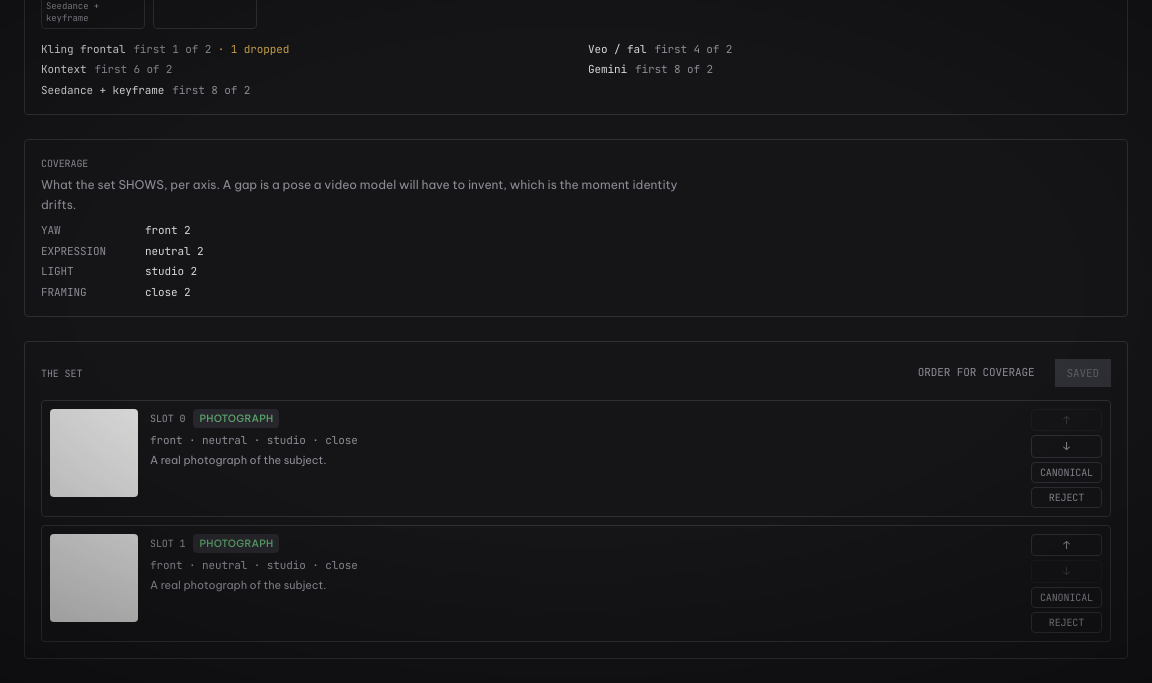
Test: ReferenceSheetPage › surfaces a refused save instead of reporting success
(page scrolled)
Click the button named "Move slot 1 earlier" at (1066, 545), box [1031, 534, 1102, 556]
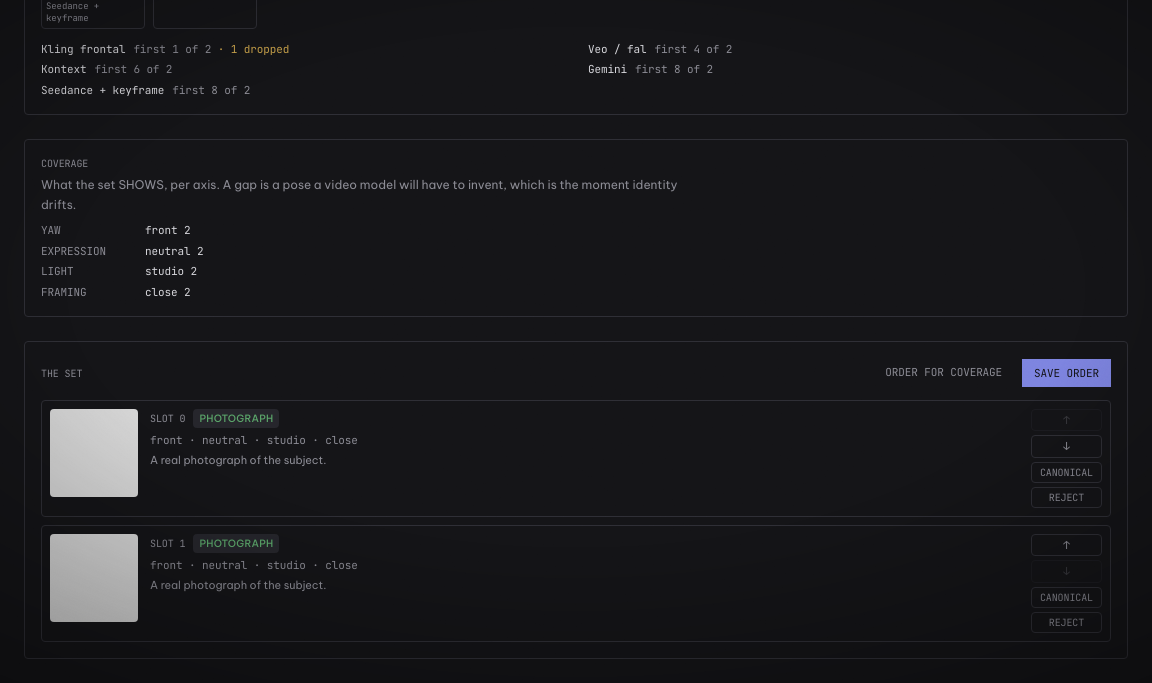
Click the button "Save order" at (1067, 373), box [1022, 359, 1111, 387]
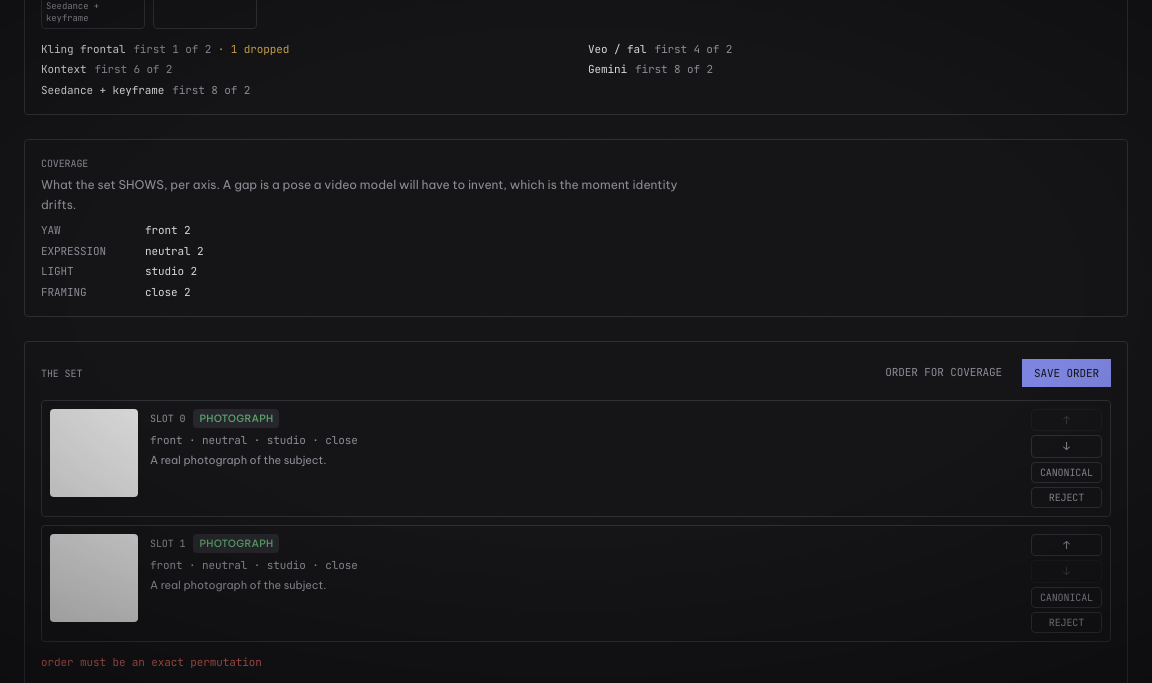
Now the button "Save order" is shown, box [1022, 359, 1111, 387]
Now the message shows "exact permutation", box [41, 655, 262, 669]
